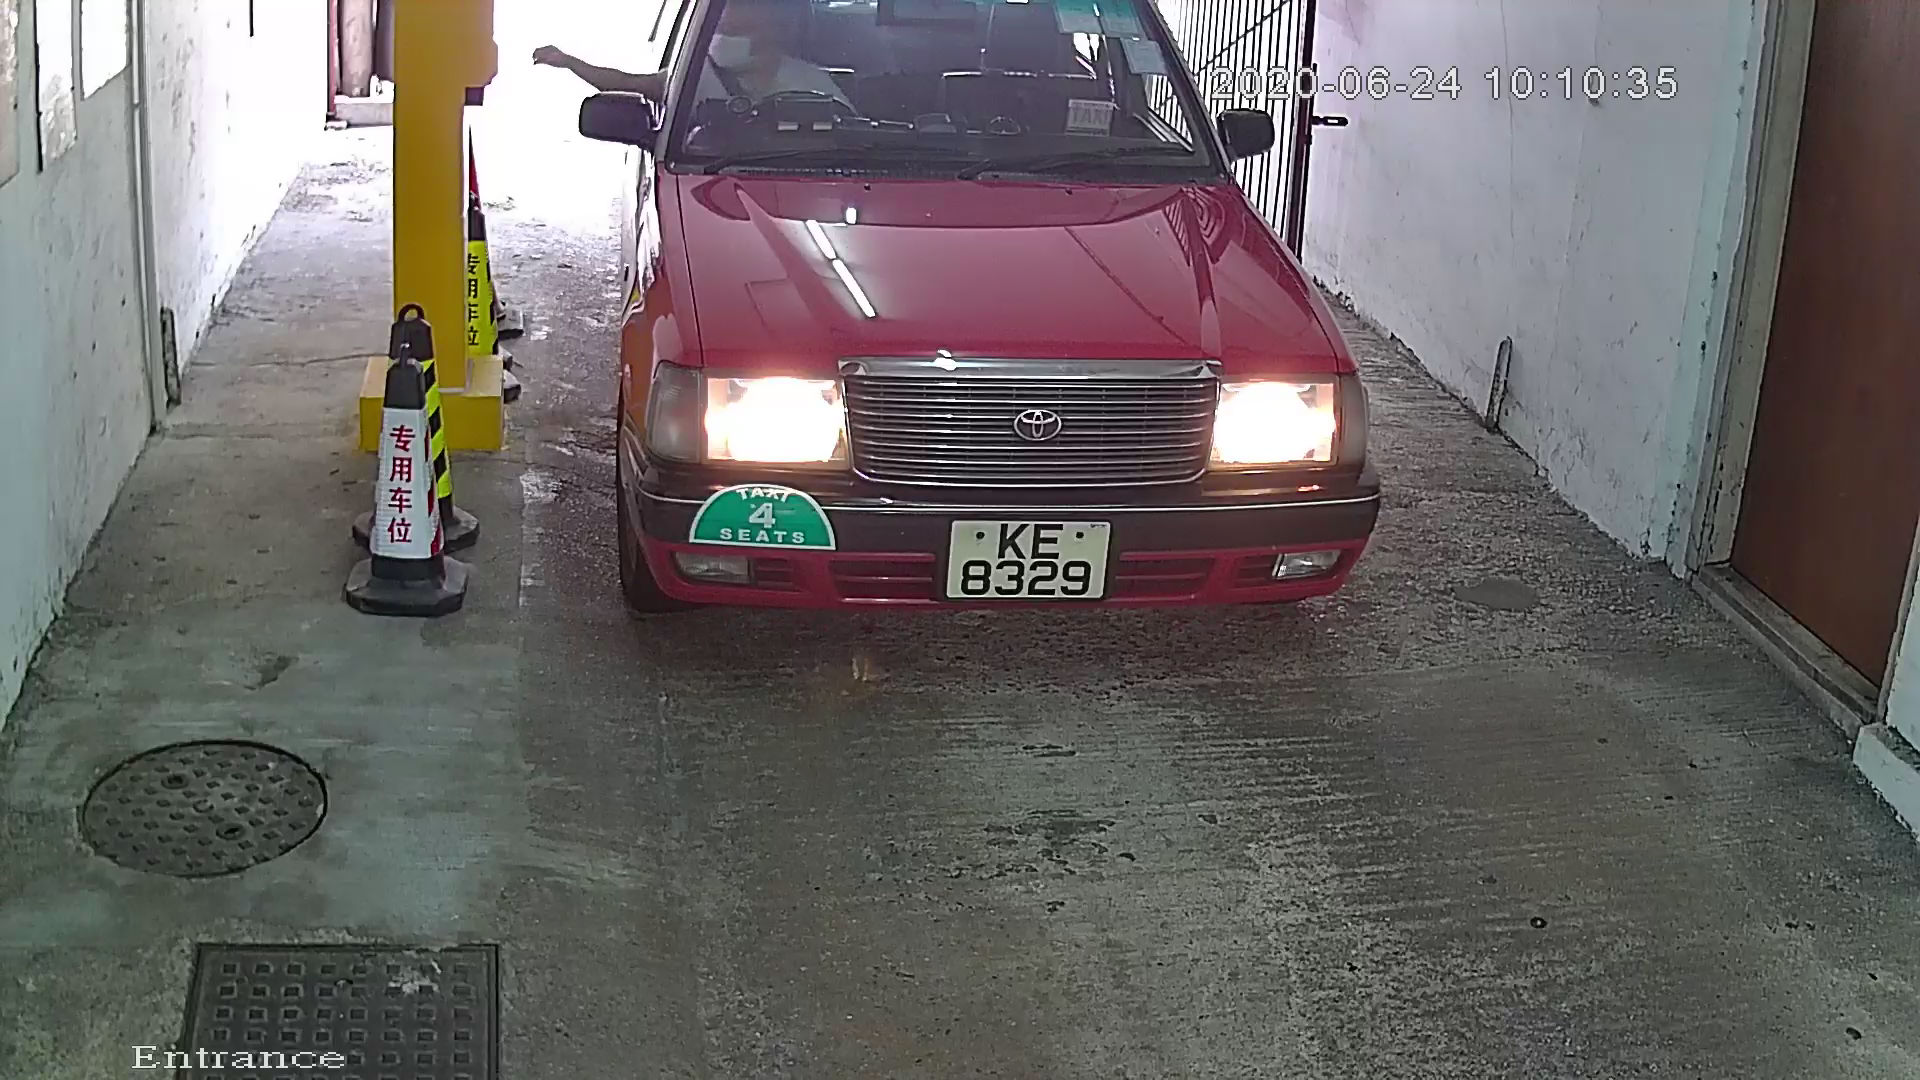Car: (558, 1, 1402, 674)
License Plate: (933, 510, 1127, 613)
